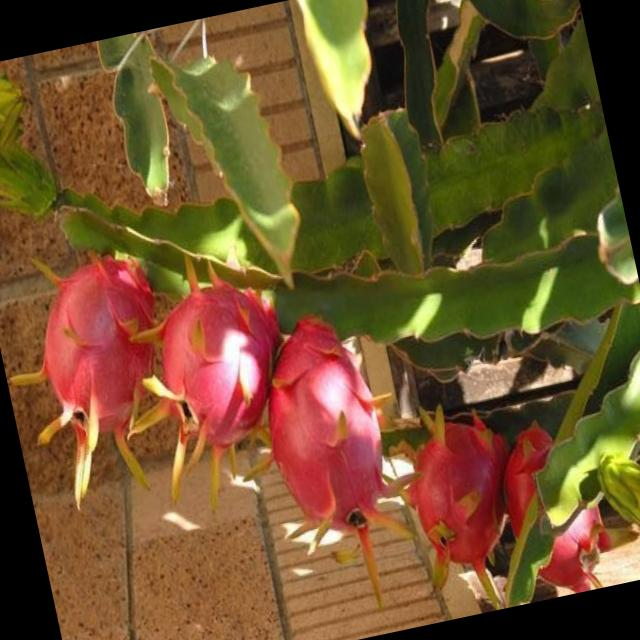Thanh Long: (2, 235, 198, 518), (114, 256, 312, 522), (245, 311, 414, 574), (391, 400, 528, 597), (488, 410, 618, 604)
